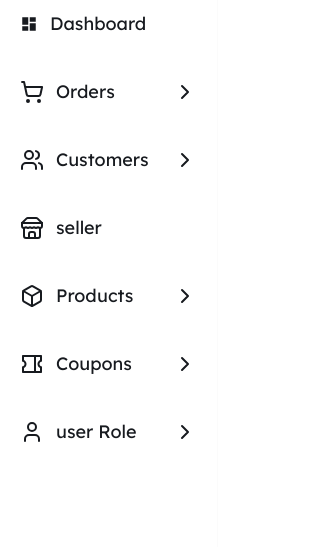
Test case: DashboardSideNav › renders the subitems correctly
Click the link "Products" at point(95, 296), box [56,282,134,310]
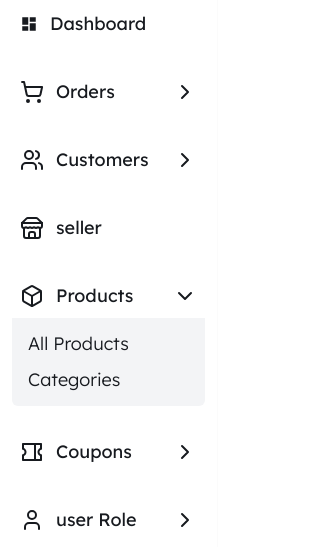
Expected: the text "All Products" is shown, [28,330,129,358]
Expected: the text "Categories" is shown, [28,366,120,394]
